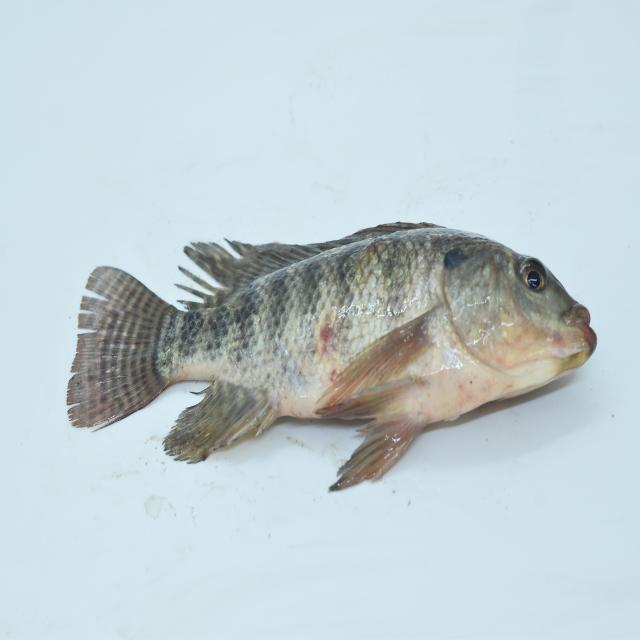Columnaris Disease: (64, 215, 600, 494)
